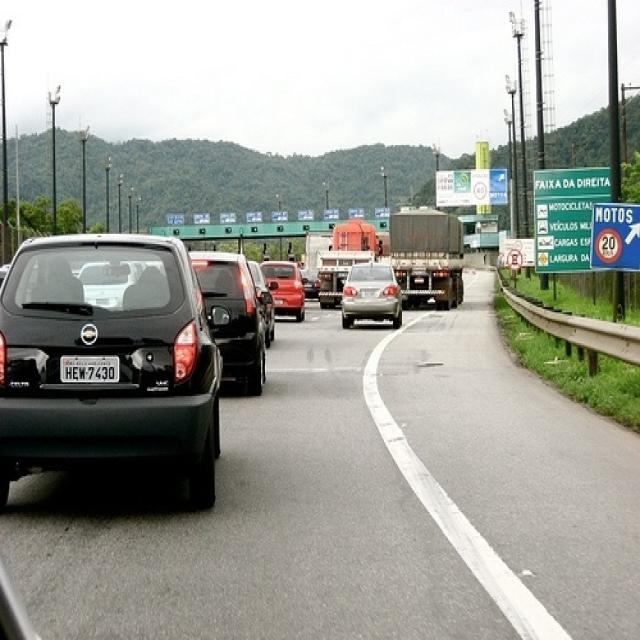Caminhao: (392, 209, 462, 312), (322, 224, 372, 300)
Carro Prata: (342, 264, 402, 328)
Carro Preto: (0, 231, 221, 503), (200, 253, 253, 392)
Carro Vermelho: (251, 264, 308, 325)
